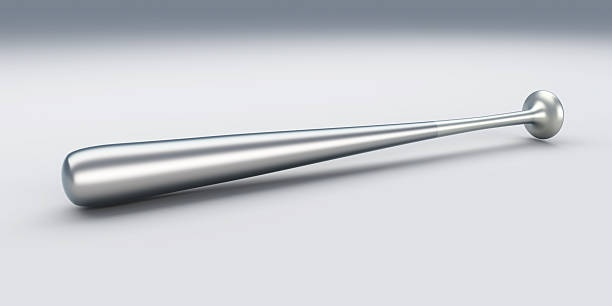bita: (67, 87, 566, 222)
